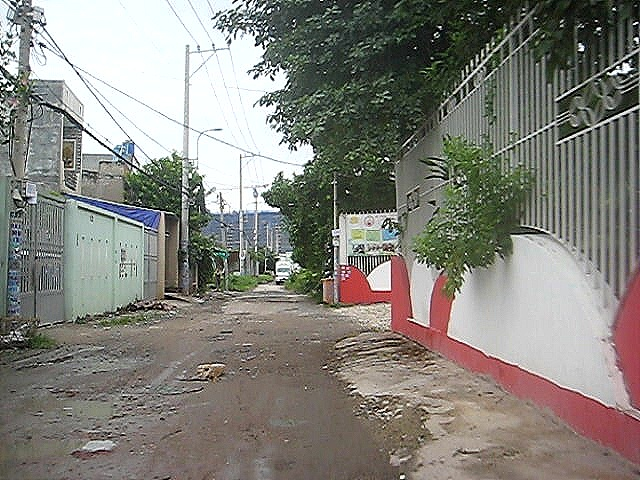hole: (1, 384, 147, 425), (3, 349, 157, 385), (1, 429, 124, 468), (237, 294, 301, 304)
